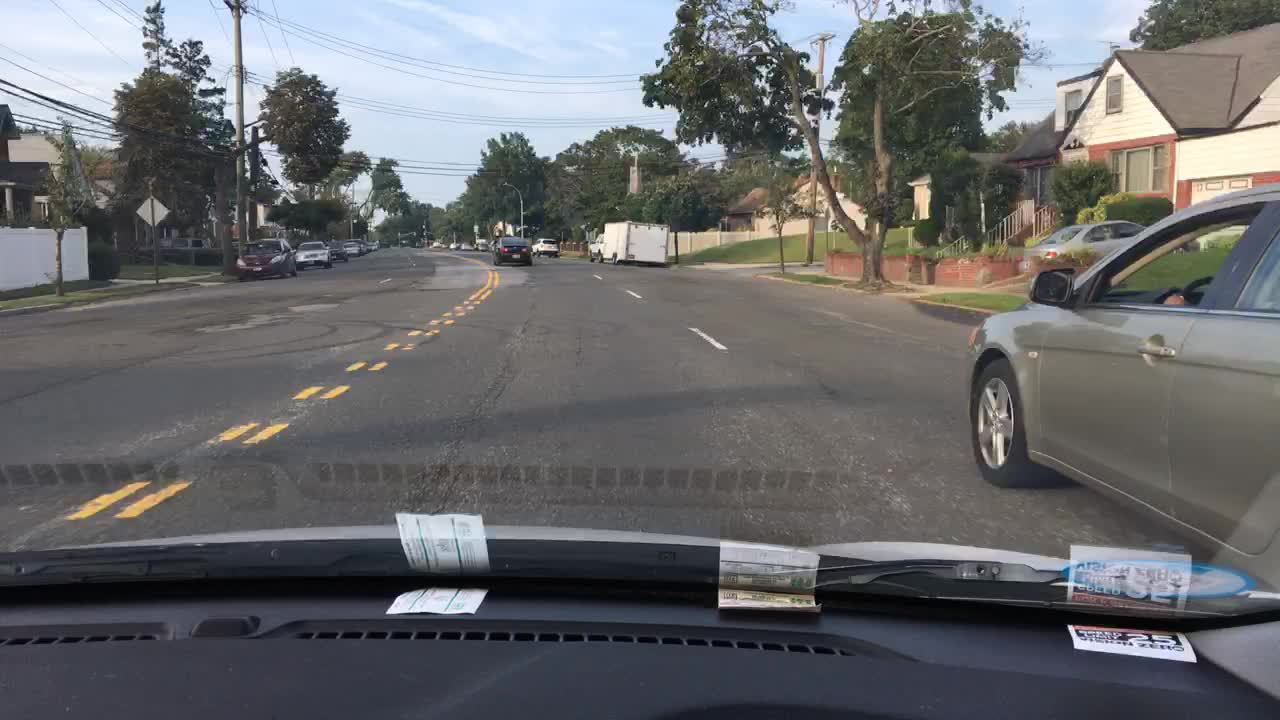car: (966, 184, 1280, 590), (1022, 218, 1149, 283), (231, 236, 300, 279), (493, 233, 533, 270), (294, 239, 332, 268), (533, 236, 560, 257), (326, 240, 349, 259), (341, 239, 361, 256), (460, 240, 476, 256), (355, 239, 367, 256), (475, 237, 490, 250), (367, 239, 381, 250), (429, 239, 443, 250), (447, 240, 461, 251)
traffic sign: (136, 193, 172, 230)
truck: (587, 217, 675, 266)
